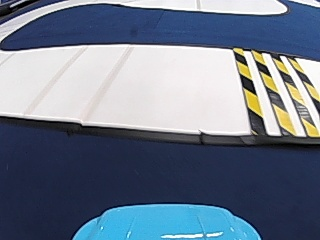bump: (219, 49, 313, 127)
